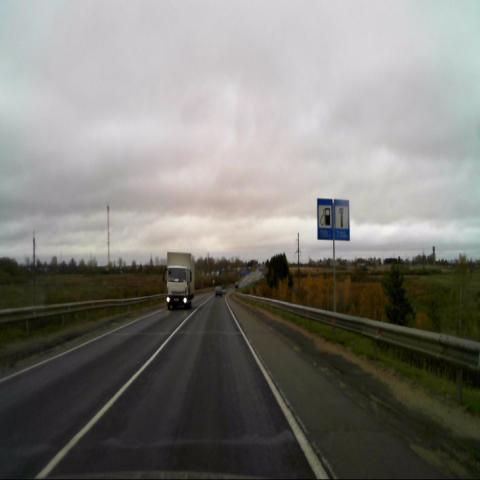7_3: (316, 198, 334, 241)
7_4: (332, 199, 350, 241)
